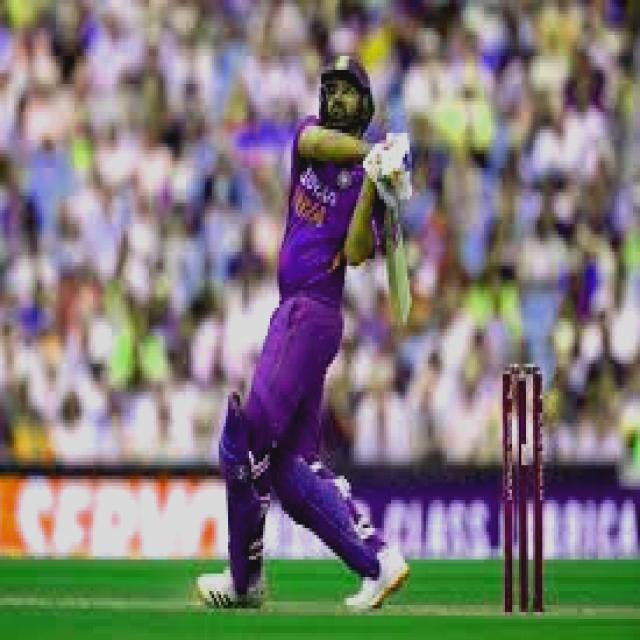toe: (392, 291, 416, 329)
